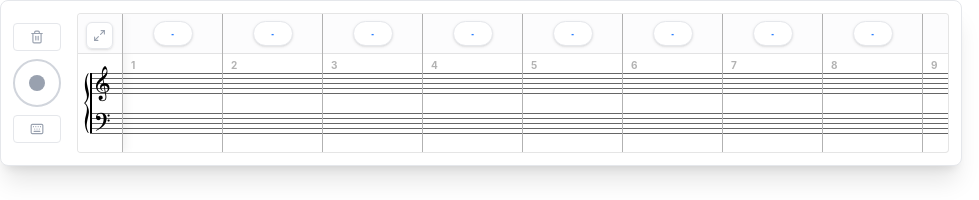
Test case: StepSequencer Component UI & Copy Instructions › Given isListeningForMap is true, When the UI renders, Assert the instructional overlay and Cancel button are visible
The image size is (979, 200).
Click the button titled "Map to Keys (Or Option+Drag to virtual keyboard)".
click(37, 129)  # box left=13, top=115, right=61, bottom=143
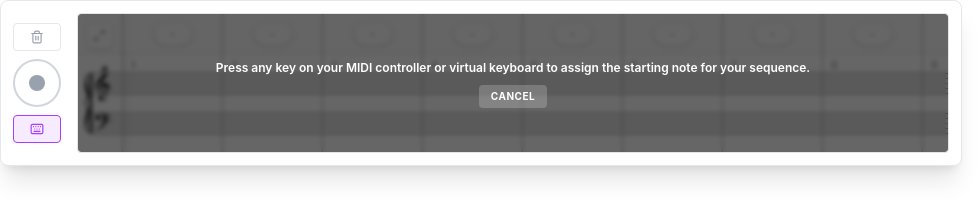
Check: the text "Press any key on your MIDI controller or virtual keyboard" is shown, box left=216, top=60, right=810, bottom=75
Check: the button "Cancel" is shown
Note: Clicking Cancel should turn off listening mode and hide the overlay
Click the button "Cancel".
click(513, 97)  # box left=479, top=85, right=547, bottom=108
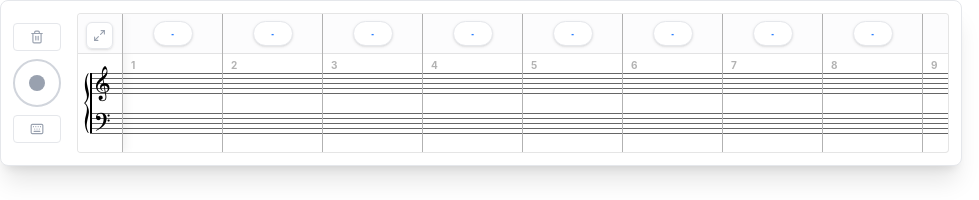
Check: the text "Press any key on your MIDI controller or virtual keyboard" is gone
